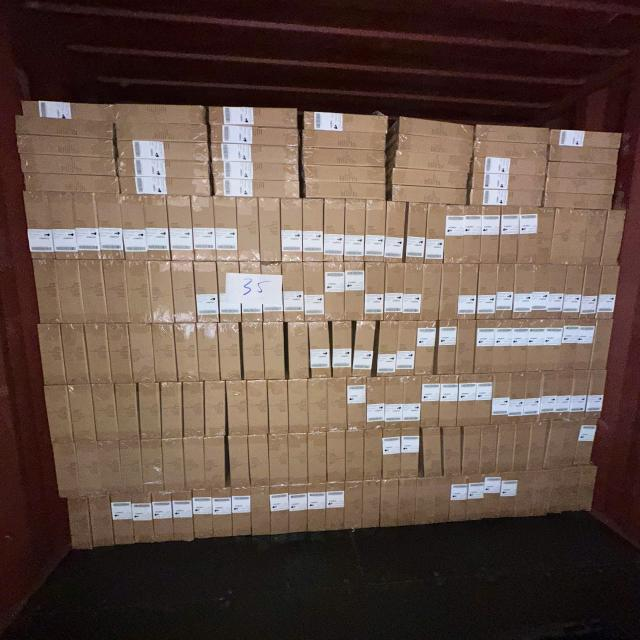Carton: (15, 114, 114, 140), (15, 134, 116, 159), (45, 189, 79, 260), (22, 190, 56, 258), (210, 123, 300, 148), (207, 105, 299, 129), (93, 191, 125, 260), (392, 179, 467, 208), (18, 154, 116, 176), (22, 172, 120, 194), (378, 321, 416, 377), (21, 100, 116, 122), (70, 192, 101, 259), (116, 140, 210, 162), (119, 175, 212, 197), (304, 113, 392, 136), (114, 103, 206, 125), (29, 259, 60, 324), (56, 256, 86, 322), (398, 115, 474, 141), (117, 158, 211, 179), (210, 143, 299, 165), (212, 178, 300, 200), (114, 123, 208, 143), (211, 161, 300, 182), (395, 149, 472, 173), (43, 387, 75, 444), (547, 128, 623, 152), (122, 193, 149, 260), (301, 147, 387, 168), (39, 324, 68, 386), (81, 260, 110, 322), (396, 134, 474, 157), (303, 164, 387, 185), (61, 325, 90, 385), (446, 264, 477, 320), (146, 196, 173, 260), (193, 196, 219, 262), (171, 196, 197, 262), (103, 261, 130, 324), (302, 130, 387, 150), (69, 386, 98, 444), (304, 181, 388, 201), (393, 167, 469, 189), (214, 199, 240, 263), (87, 324, 114, 385), (52, 443, 81, 499), (172, 261, 198, 323), (127, 261, 153, 323), (74, 441, 103, 496), (130, 324, 156, 384), (260, 197, 284, 262), (217, 262, 243, 322), (470, 172, 547, 192), (149, 262, 174, 323), (238, 200, 262, 263), (196, 262, 221, 322), (475, 124, 550, 144), (472, 157, 547, 177), (581, 209, 607, 266), (474, 140, 548, 160), (280, 199, 303, 263), (94, 386, 120, 442), (600, 210, 626, 266), (96, 440, 122, 496), (175, 324, 200, 382), (108, 324, 132, 384), (510, 263, 535, 320), (154, 325, 178, 384), (218, 322, 242, 381), (323, 198, 345, 262), (66, 498, 93, 550), (595, 266, 621, 320), (555, 318, 581, 372), (264, 324, 288, 382), (516, 206, 540, 264), (282, 262, 305, 322), (239, 262, 262, 322), (115, 385, 140, 440), (241, 324, 265, 381), (304, 198, 325, 263), (344, 202, 366, 264), (384, 203, 406, 265), (406, 202, 428, 264), (118, 439, 144, 491), (352, 322, 376, 378), (263, 262, 285, 323), (198, 324, 221, 382), (550, 207, 573, 265), (549, 145, 619, 164), (89, 496, 114, 549), (304, 262, 326, 322), (469, 189, 542, 207), (161, 384, 184, 441), (286, 323, 309, 380), (184, 384, 207, 441), (138, 385, 161, 442), (225, 382, 248, 439), (589, 318, 614, 370), (344, 263, 366, 322), (540, 318, 564, 372), (204, 381, 227, 437), (508, 318, 531, 374), (364, 203, 385, 264), (424, 204, 445, 265), (545, 177, 616, 195), (310, 322, 332, 380), (498, 208, 520, 266), (384, 262, 405, 322), (332, 323, 354, 380), (204, 437, 228, 489), (162, 440, 186, 492), (110, 495, 134, 547), (548, 162, 617, 180), (544, 192, 613, 210), (477, 264, 499, 320), (374, 322, 396, 378), (530, 264, 552, 320), (182, 438, 205, 491), (562, 267, 585, 320), (574, 318, 597, 371), (324, 263, 345, 321), (248, 380, 270, 435), (268, 379, 290, 434), (140, 440, 164, 490), (443, 204, 463, 264), (567, 370, 591, 420), (480, 208, 501, 265), (172, 492, 195, 544), (150, 493, 173, 545), (287, 381, 309, 435), (415, 322, 437, 376), (473, 319, 495, 373), (364, 263, 384, 322), (462, 207, 482, 266), (438, 265, 459, 321), (397, 321, 418, 377), (566, 209, 587, 265), (546, 264, 567, 320), (491, 318, 512, 374), (131, 494, 154, 545), (248, 435, 270, 488), (228, 436, 250, 489), (456, 372, 478, 425), (460, 264, 480, 322), (404, 264, 424, 322), (437, 322, 458, 377), (326, 379, 347, 434), (455, 322, 476, 377), (573, 418, 597, 466), (580, 267, 602, 319), (522, 372, 544, 424), (420, 264, 440, 321), (308, 380, 329, 434), (346, 379, 367, 433), (473, 372, 494, 426), (558, 419, 581, 468), (494, 264, 514, 320), (307, 432, 328, 485), (421, 429, 443, 479), (191, 490, 213, 540), (306, 484, 328, 534), (584, 370, 606, 420), (269, 434, 290, 486), (287, 434, 308, 486), (440, 376, 461, 428), (491, 372, 512, 424), (526, 319, 546, 373), (402, 429, 423, 480), (535, 208, 554, 264), (380, 426, 400, 479), (384, 378, 404, 431), (448, 476, 470, 524), (212, 490, 233, 540), (232, 488, 253, 538), (270, 486, 291, 536), (345, 431, 365, 483), (325, 432, 345, 484), (507, 372, 527, 424), (442, 429, 463, 478), (250, 488, 271, 537), (543, 420, 564, 469), (362, 431, 382, 482), (554, 371, 574, 422), (495, 426, 516, 474), (365, 379, 384, 432), (327, 482, 347, 532), (511, 422, 531, 472), (421, 376, 440, 428), (404, 378, 423, 430), (577, 467, 598, 514), (380, 479, 400, 528), (462, 428, 482, 477), (288, 485, 308, 534), (397, 478, 417, 527), (361, 481, 381, 530), (415, 478, 435, 527), (526, 422, 546, 471), (432, 476, 452, 525), (465, 475, 486, 521), (344, 482, 364, 530), (480, 425, 499, 474), (516, 470, 535, 518), (538, 371, 556, 421), (482, 473, 501, 519), (562, 466, 581, 512), (534, 467, 550, 518), (500, 472, 517, 519), (546, 467, 563, 512)
